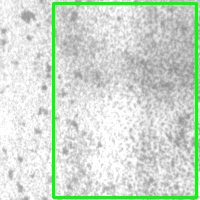pitted_surface: (53, 3, 196, 197)
